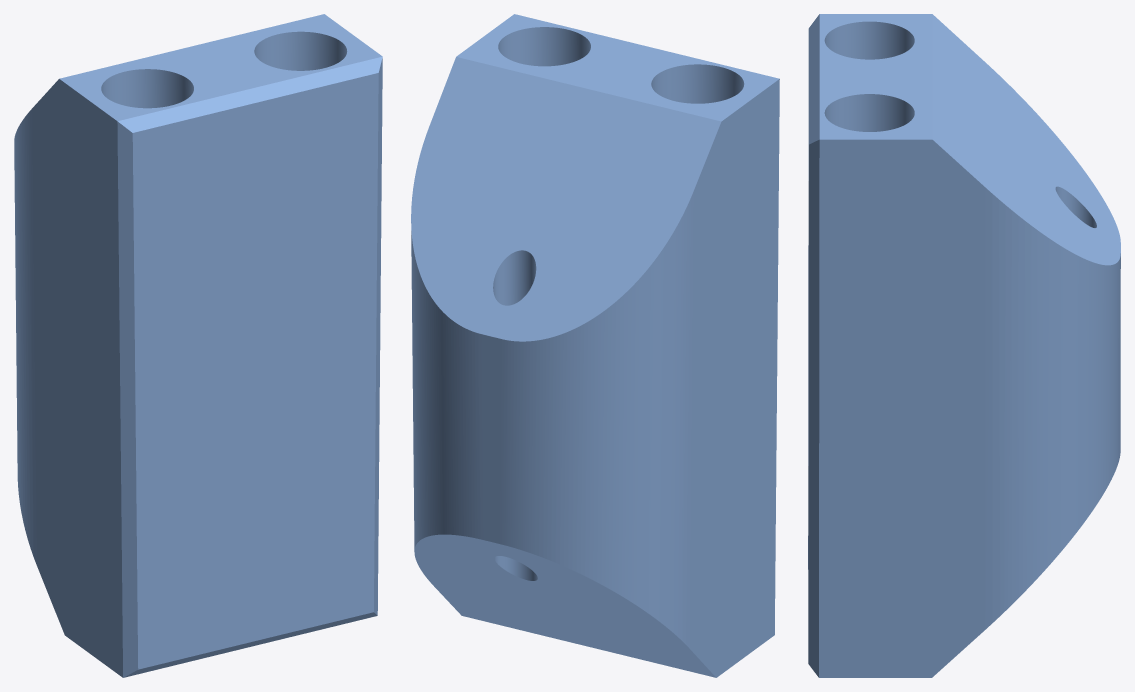
The model's file is dedo_cordial_2.dae.
3 renders of one model, left to right at view 1: azimuth 30°, elevation 25°; view 2: azimuth 150°, elevation 25°; view 3: azimuth 270°, elevation 25°, orthographic. The views are drawn at different scales.
Parts seen in each view (by area): view 1: Fingerdesign-All-2.009; view 2: Fingerdesign-All-2.009; view 3: Fingerdesign-All-2.009.
Part boxes in pixels (box(x1,y1,x2,y2)): Fingerdesign-All-2.009: box(14, 14, 382, 677); Fingerdesign-All-2.009: box(411, 14, 779, 677); Fingerdesign-All-2.009: box(808, 14, 1120, 677).
Size of the model in its own units: 0.0142 by 0.0149 by 0.0285.
